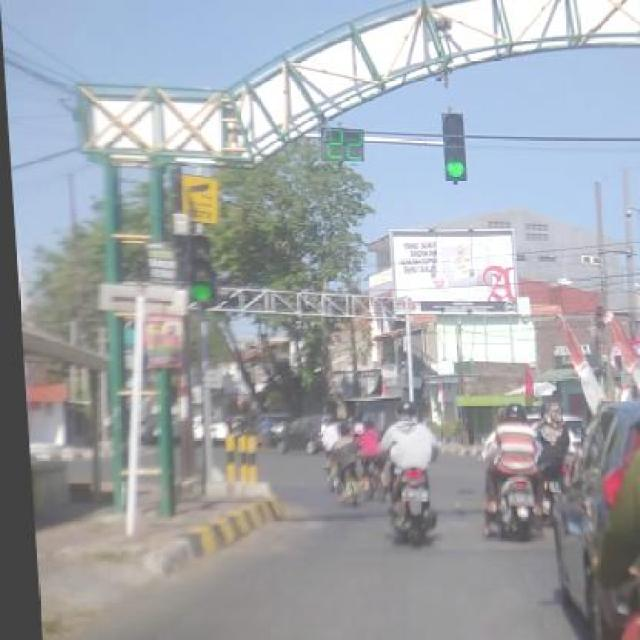green_light: (182, 236, 209, 306), (440, 112, 465, 180)
